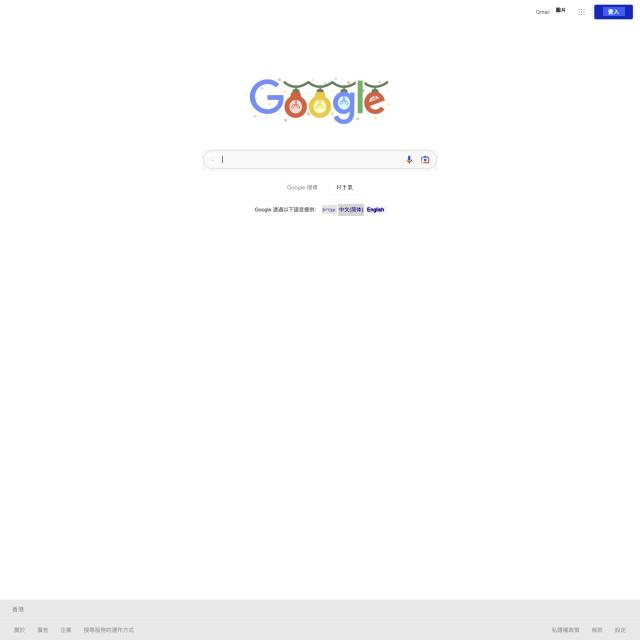CheckBox: (281, 179, 326, 195), (592, 4, 634, 20), (330, 180, 362, 194), (338, 204, 364, 216), (533, 6, 553, 18), (554, 5, 569, 18), (365, 206, 387, 214), (322, 205, 337, 214)
badge: (0, 600, 640, 640)
carousel: (575, 6, 588, 19), (208, 153, 219, 165)
data feed: (202, 149, 438, 171), (603, 7, 625, 16)
date picker: (242, 68, 404, 134)
